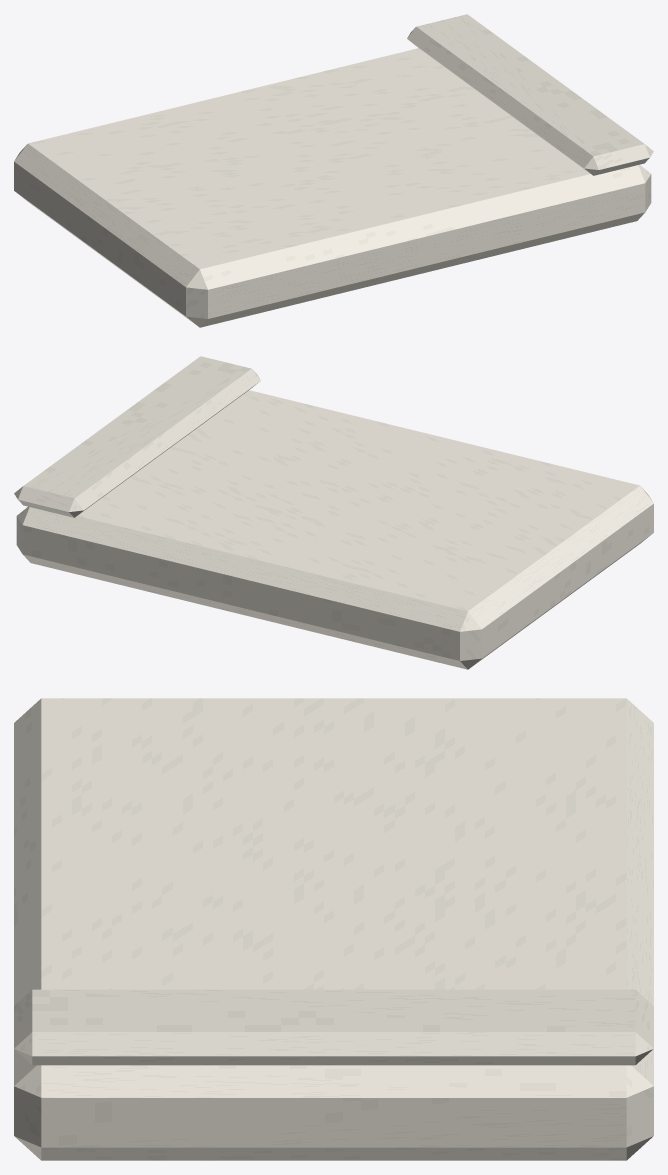
Rendered from bag_paper_powder.glb.
The picture shows the model from 3 angles, top to bottom: view 1: azimuth 30°, elevation 25°; view 2: azimuth 150°, elevation 25°; view 3: azimuth 270°, elevation 25°; orthographic projection. The views are drawn at different scales.
Parts seen in each view (by area): view 1: block_bag, block_fold; view 2: block_bag, block_fold; view 3: block_bag, block_fold.
Boxes of the visible parts, x1,y1,x2,y2 form: block_bag: (14, 48, 651, 327); block_fold: (407, 14, 653, 175); block_bag: (16, 390, 653, 669); block_fold: (14, 356, 260, 517); block_bag: (14, 698, 653, 1160); block_fold: (14, 989, 653, 1065).
Bounding box in the file's own units: 0.1 × 0.016 × 0.07.
1 material, 1 textured.
